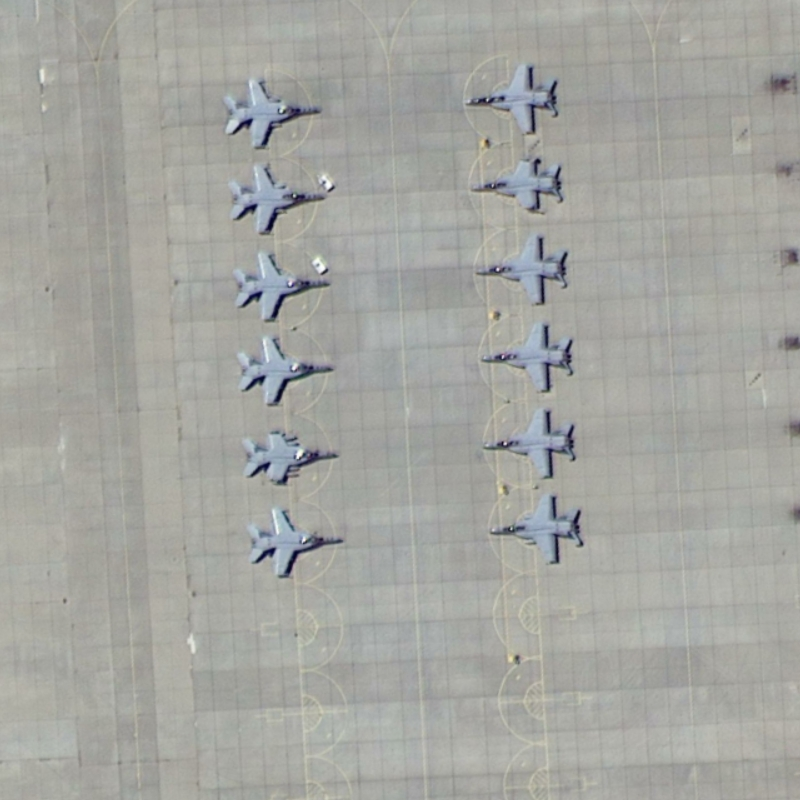A16: (215, 69, 326, 153), (225, 155, 333, 241), (471, 401, 582, 484), (225, 242, 335, 325), (456, 52, 564, 136), (242, 498, 347, 584), (474, 315, 579, 400), (232, 330, 338, 412), (482, 488, 588, 569), (465, 232, 572, 311), (232, 420, 342, 491), (461, 149, 568, 216)
